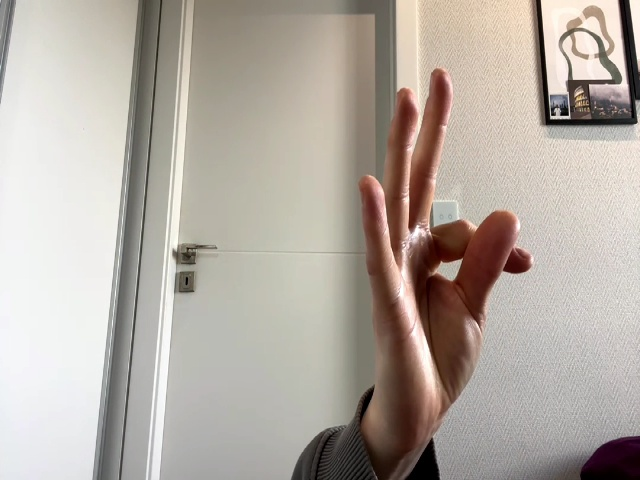T: (359, 69, 535, 430)
